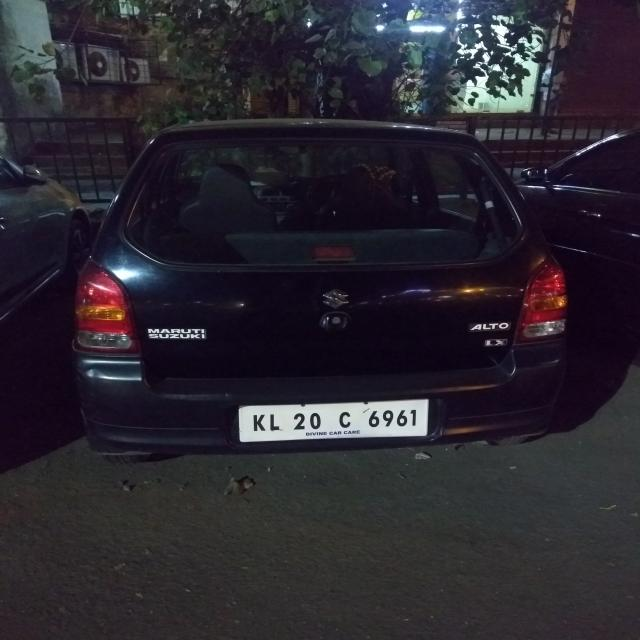Number-Plate: (241, 404, 424, 439)
